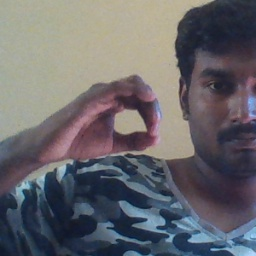O: (47, 64, 168, 170)
